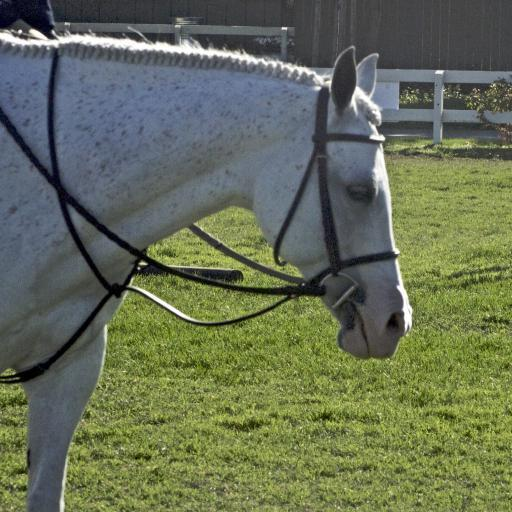horse: (0, 24, 412, 512)
